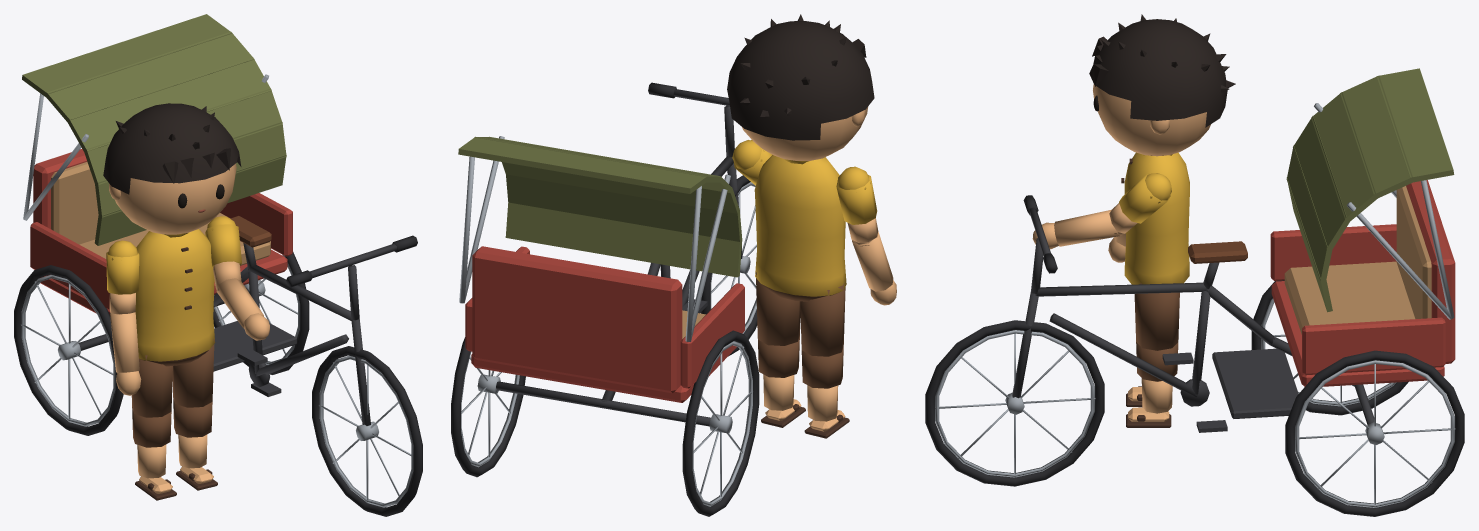
Rendered from era2_samlor_rider.glb.
The picture shows the model from 3 angles, left to right: view 1: azimuth 30°, elevation 25°; view 2: azimuth 150°, elevation 25°; view 3: azimuth 270°, elevation 25°; orthographic projection. The views are drawn at different scales.
Visible parts, largest first — view 1: prop_samlor, head, body, shin_L, shin_R, arm_R, forearm_R, leg_R, leg_L, arm_L, forearm_L; view 2: prop_samlor, head, body, shin_L, shin_R, leg_R, arm_R, leg_L, forearm_R, arm_L; view 3: prop_samlor, head, body, shin_L, leg_L, arm_L, forearm_L.
Boxes of the visible parts, x1,y1,x2,y2 form: prop_samlor: [14, 14, 422, 516]; head: [103, 103, 241, 234]; body: [135, 229, 215, 366]; shin_L: [173, 398, 217, 490]; shin_R: [132, 407, 176, 500]; arm_R: [106, 240, 139, 314]; forearm_R: [110, 312, 141, 395]; leg_R: [131, 355, 172, 417]; leg_L: [172, 338, 214, 407]; arm_L: [205, 216, 241, 292]; forearm_L: [216, 278, 269, 340]; prop_samlor: [451, 82, 759, 516]; head: [727, 14, 874, 160]; body: [754, 155, 846, 301]; shin_L: [758, 335, 805, 427]; shin_R: [801, 346, 849, 438]; leg_R: [800, 283, 845, 356]; arm_R: [836, 166, 878, 246]; leg_L: [755, 272, 800, 345]; forearm_R: [852, 232, 896, 305]; arm_L: [732, 139, 772, 185]; prop_samlor: [925, 68, 1464, 516]; head: [1089, 14, 1235, 156]; body: [1121, 152, 1189, 284]; shin_L: [1126, 342, 1178, 427]; leg_L: [1134, 283, 1179, 350]; arm_L: [1109, 173, 1171, 235]; forearm_L: [1032, 209, 1119, 249].
Size of the model in its own units: 1.13 by 1.52 by 1.87.
